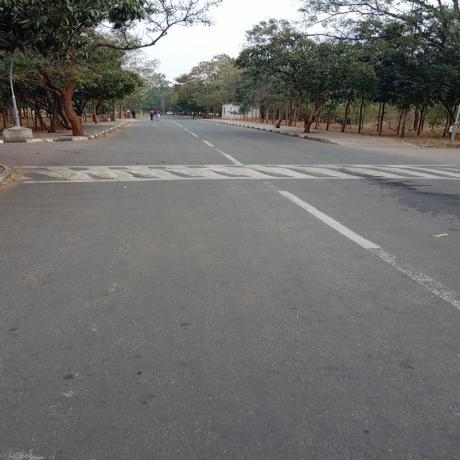Speed Bump: (16, 164, 459, 185)
